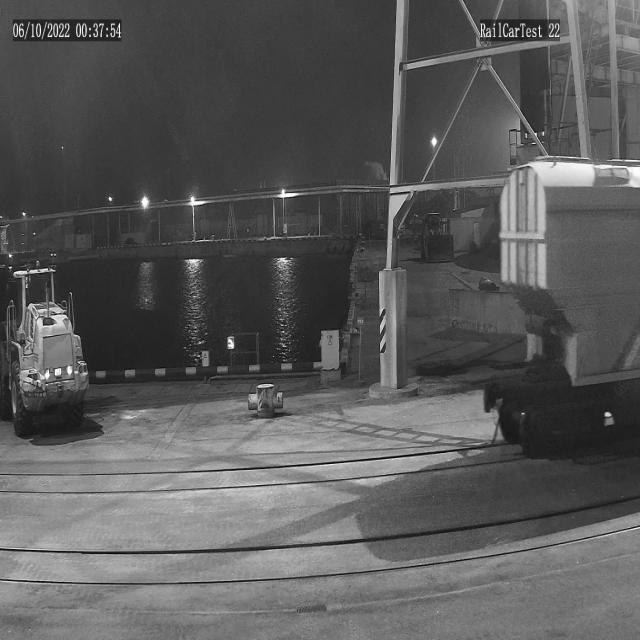hopper: (469, 135, 640, 469)
